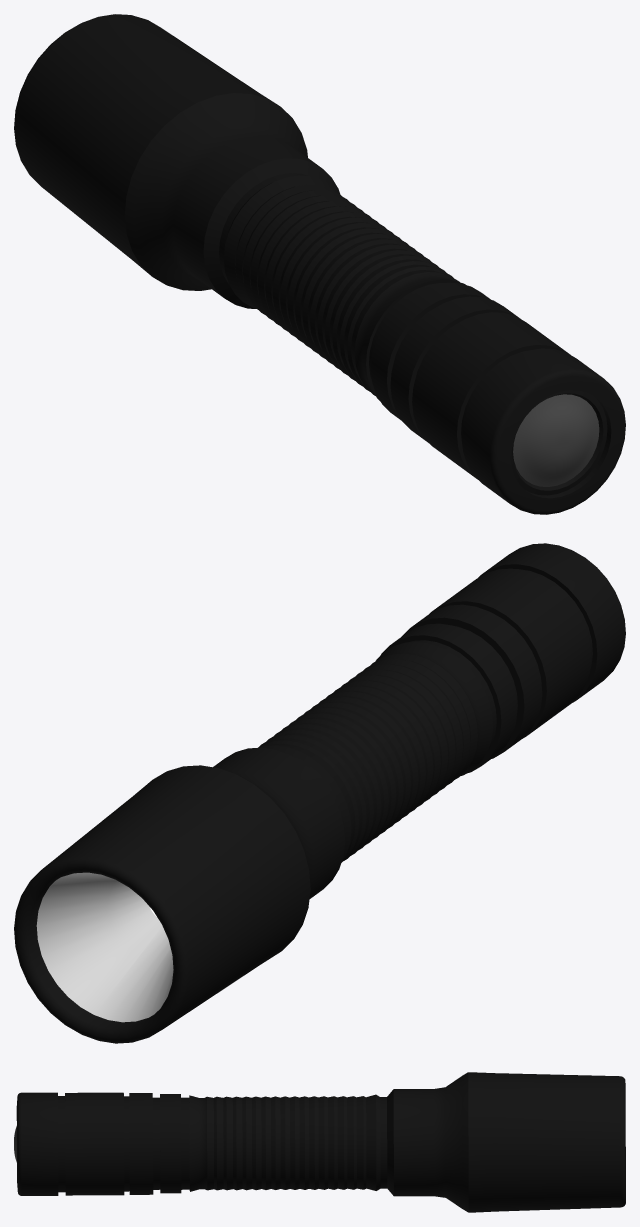
The model's file is flashlight.glb.
The picture shows the model from 3 angles, top to bottom: view 1: azimuth 30°, elevation 25°; view 2: azimuth 150°, elevation 25°; view 3: azimuth 270°, elevation 25°; orthographic projection. The views are drawn at different scales.
Parts seen in each view (by area): view 1: flashlight_0; view 2: flashlight_0; view 3: flashlight_0.
Part boxes in pixels (left/top/right/bottom): flashlight_0: left=14, top=14, right=625, bottom=514; flashlight_0: left=14, top=543, right=625, bottom=1043; flashlight_0: left=14, top=1072, right=625, bottom=1212.
Size of the model in its own units: 1.06 by 1.06 by 4.63.
4 materials, 3 textured.
